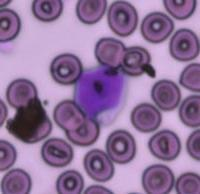L: (73, 64, 130, 125)
